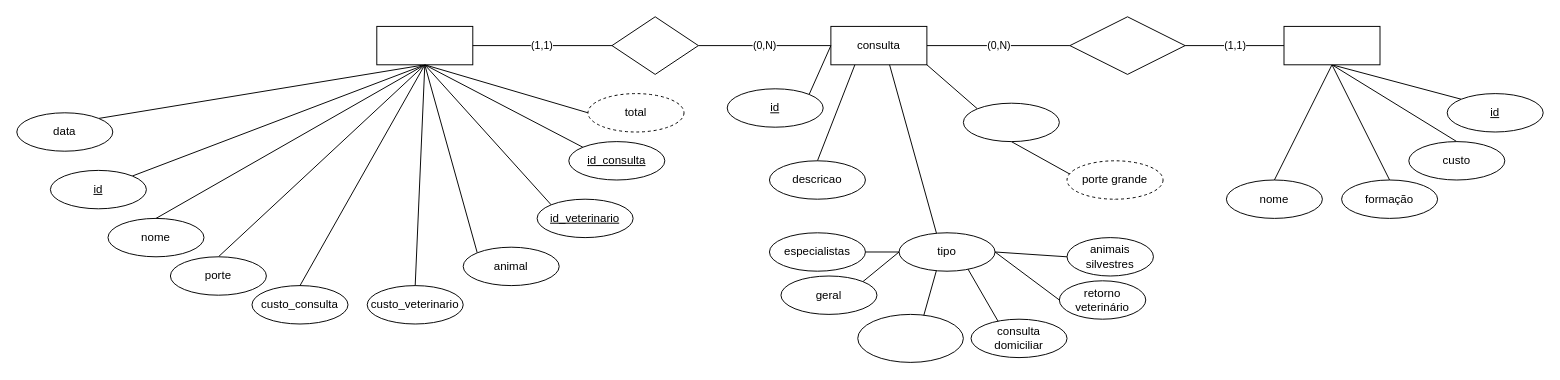
The diagram is 1560 pixels wide and 380 high, and some of its shapes have lost their labels. Here are the shapes that lost their labels. From the top down, the centre of each, then its label:
At [424,45]: "Cliente".
At [654,45]: "precisa".
At [1127,45]: "faz".
At [1331,45]: "veterinario".
At [1010,122]: "valor".
At [910,337]: "emergência/plantão".
